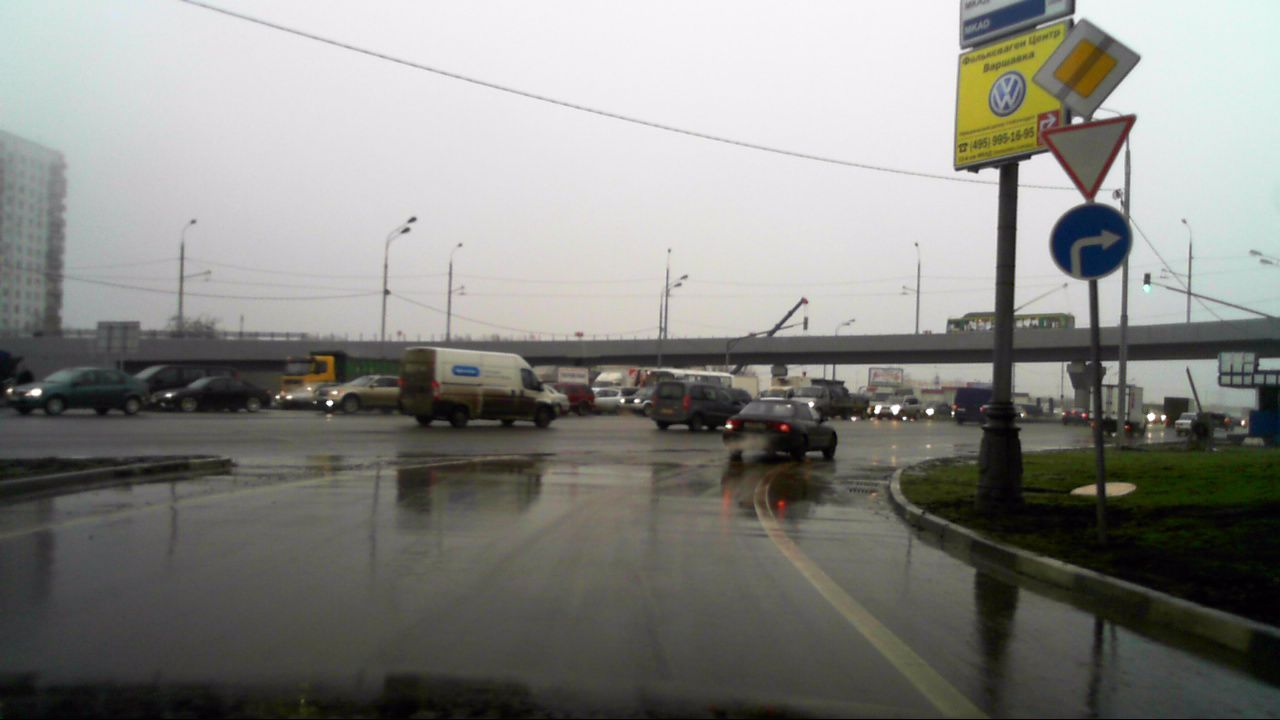main road: (1035, 20, 1141, 116)
